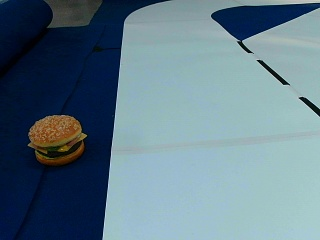burger: (27, 114, 86, 164)
